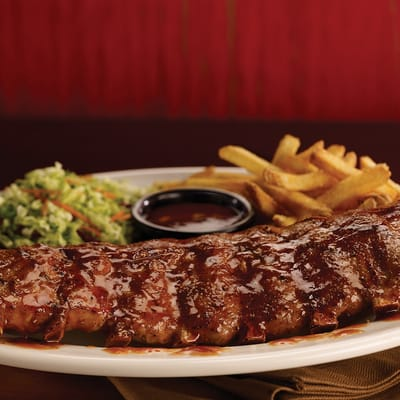sandwich: (0, 207, 400, 350)
